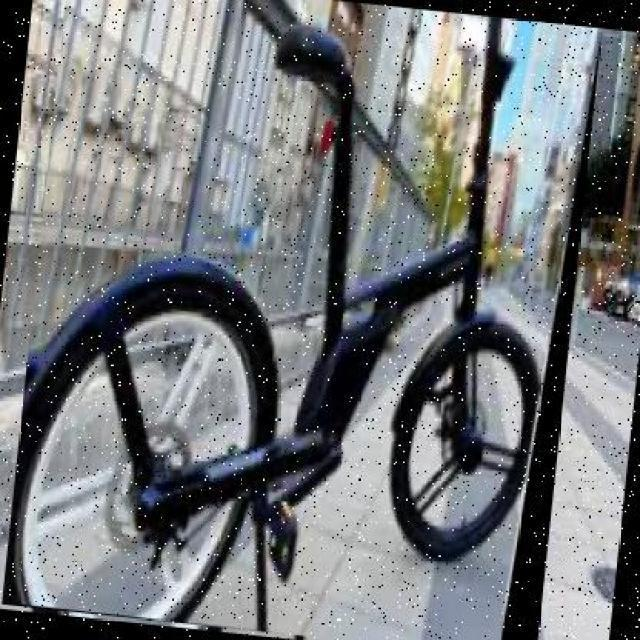bicycle: (1, 1, 602, 639)
